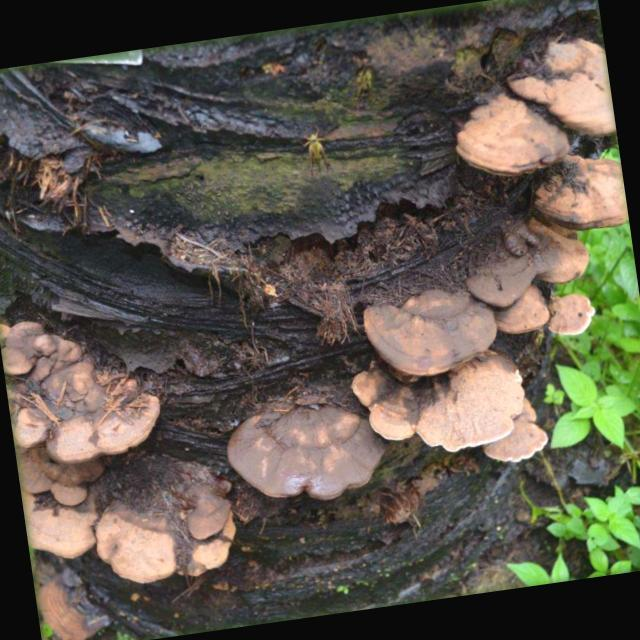ganoderma: (1, 303, 170, 476), (347, 339, 534, 467), (86, 452, 247, 593), (221, 390, 397, 517), (448, 81, 585, 192), (361, 285, 507, 388), (458, 210, 599, 316), (501, 29, 618, 153), (528, 150, 631, 243), (16, 436, 113, 517), (25, 502, 110, 568), (480, 420, 554, 470), (494, 281, 555, 338), (546, 292, 603, 343)
